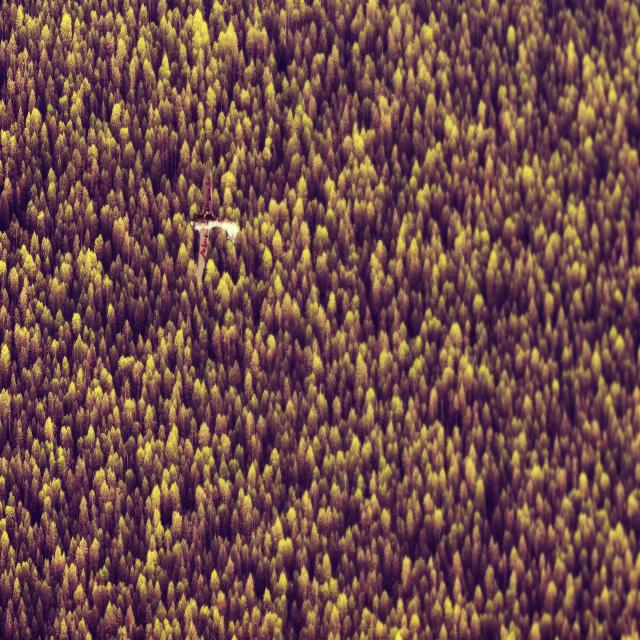airplane: (189, 158, 240, 284)
